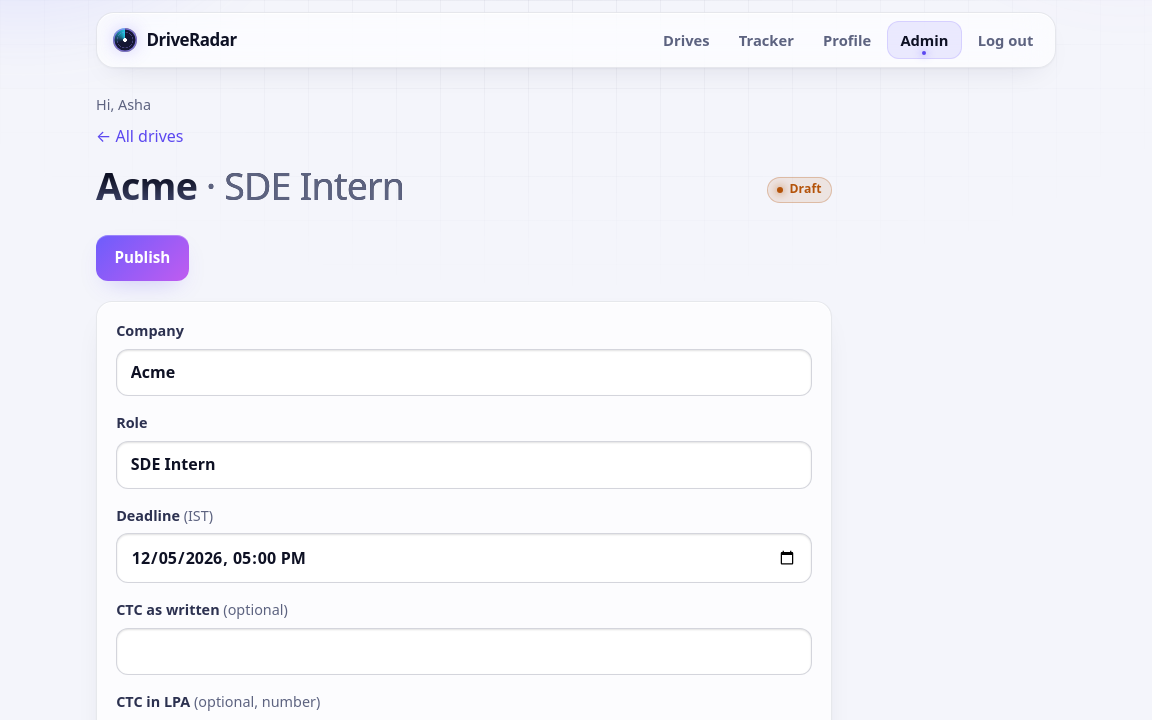
it: admin › publishes a draft after confirming
Click the button "Publish" at (142,258), box x1=96 y1=235 x2=189 y2=281
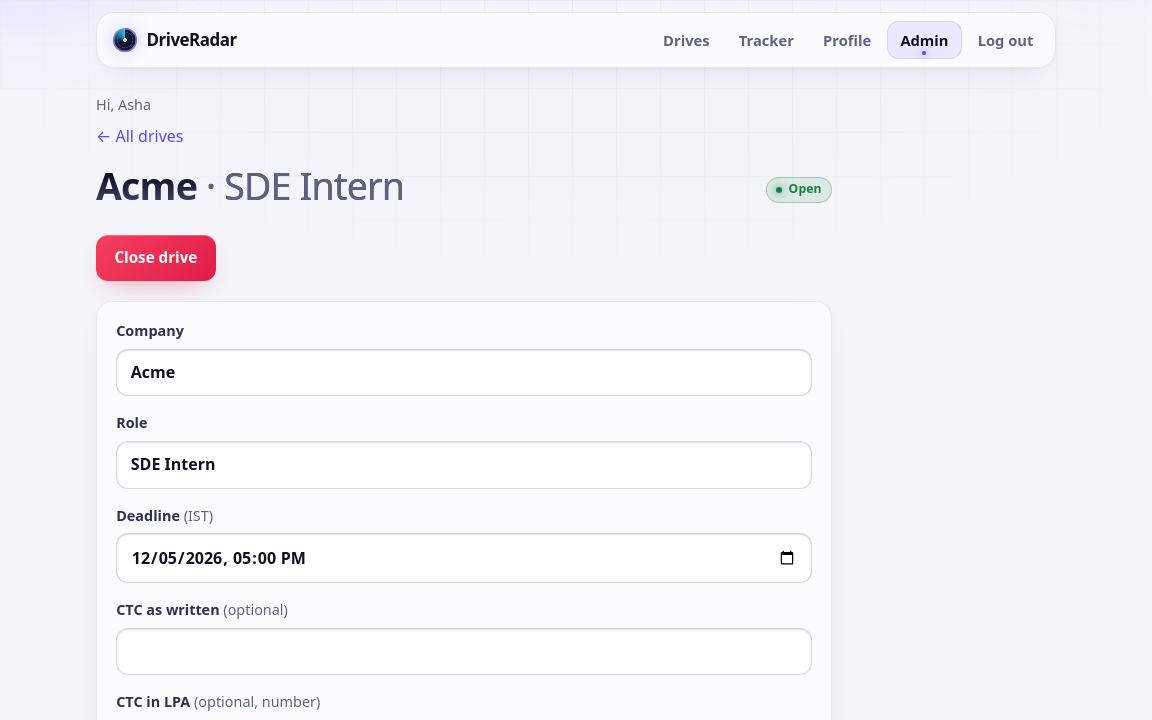
Check: the button "Close drive" is shown, box x1=96 y1=235 x2=216 y2=281
